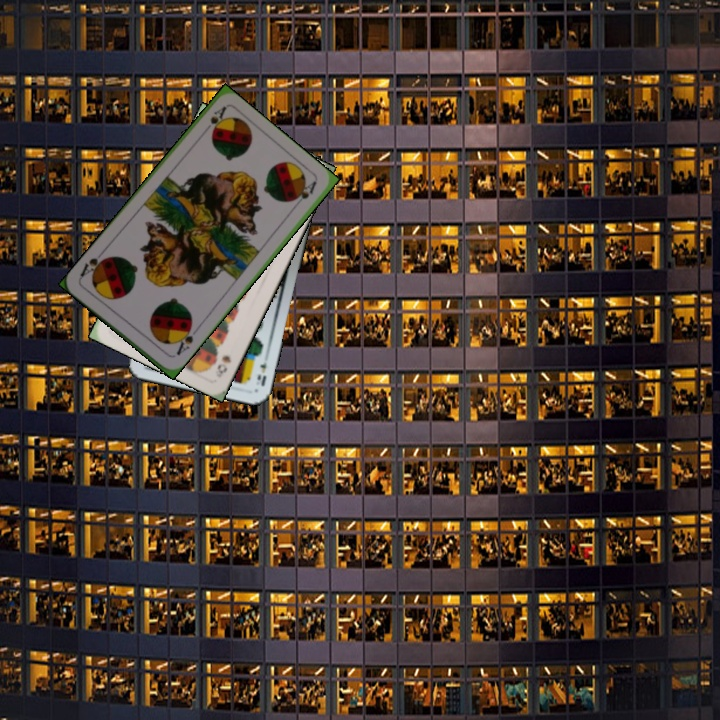EK: (253, 358, 269, 388)
S8: (213, 351, 234, 377)
SA: (198, 103, 228, 137), (171, 321, 196, 358)
